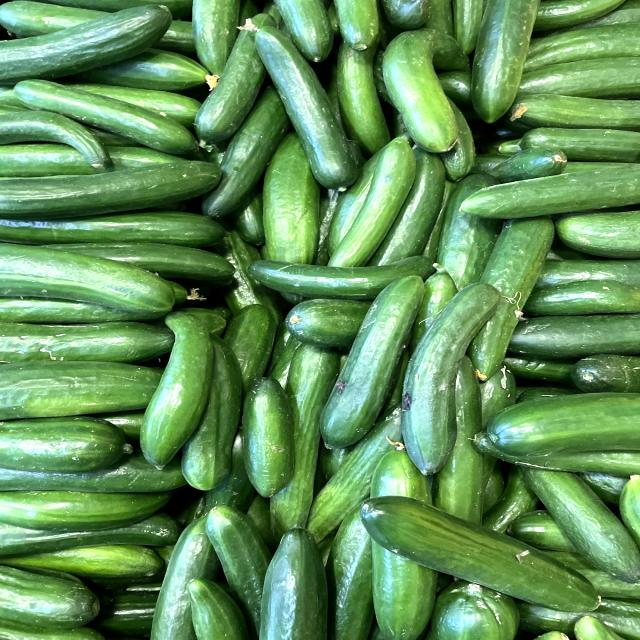cucumber: (346, 489, 606, 621), (379, 275, 516, 477), (240, 16, 372, 196), (311, 269, 432, 452), (133, 306, 216, 470), (232, 369, 308, 506)
